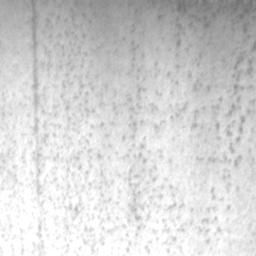Pitted surface: (0, 13, 256, 254), (22, 213, 56, 256), (188, 74, 210, 91), (2, 93, 12, 120)
